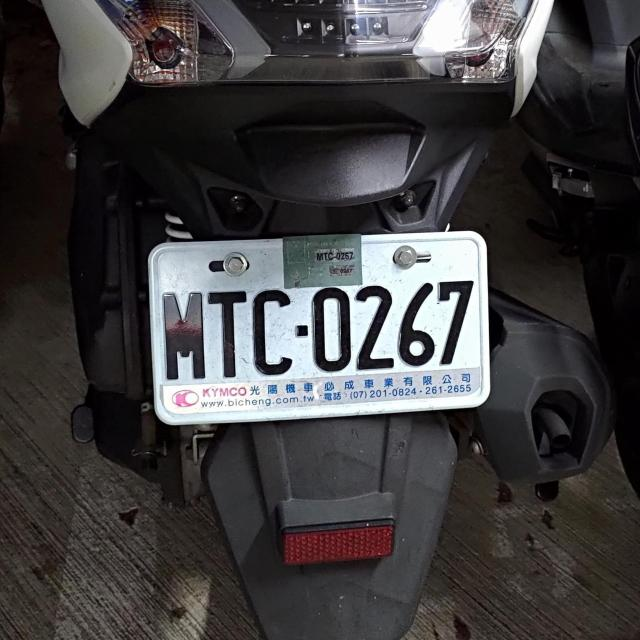W: (136, 227, 497, 426)
